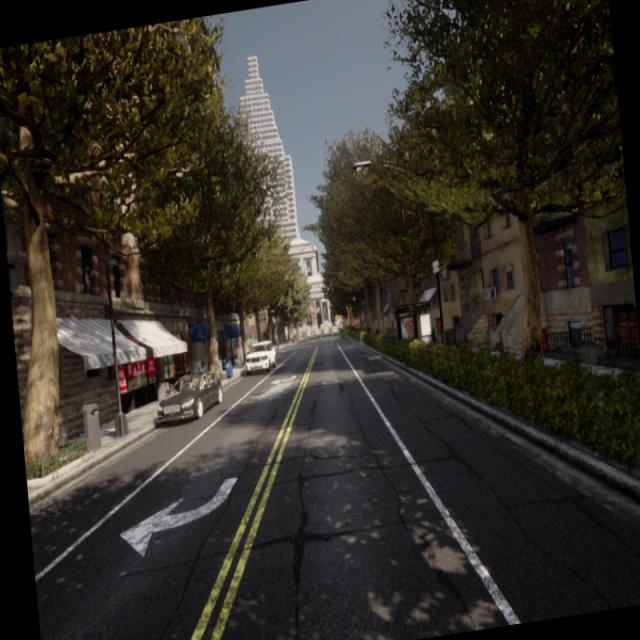stop sign: (348, 311, 362, 329)
